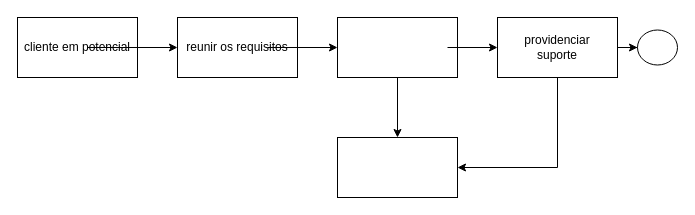
Some shapes in this 695 by 215 pixel diagram are drawn without their labels. Here are the shapes that lost their labels. From the top down, the centre of each, then its label:
[397,47]: desenvolver o software
[397,167]: testar o sofware
